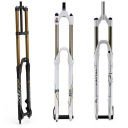Fork: (46, 5, 85, 121)
